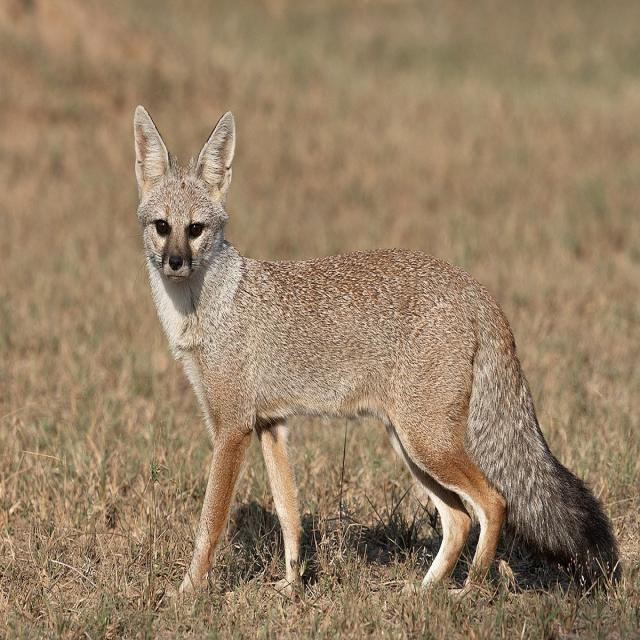fox: (132, 104, 624, 606)
